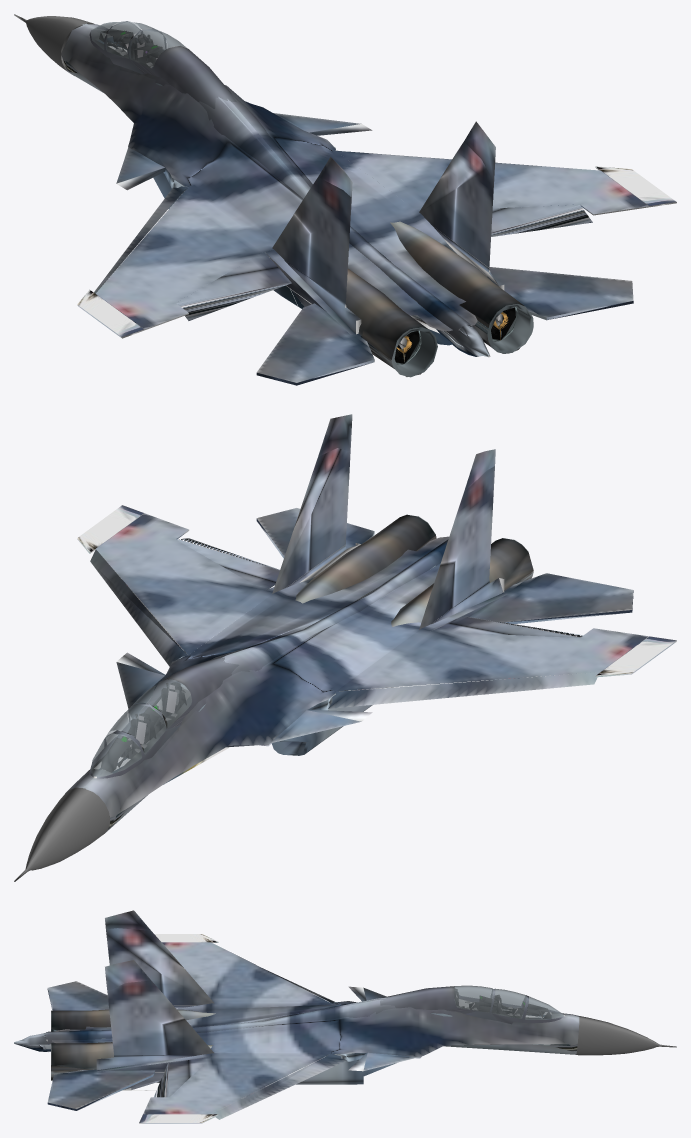
3 views of the same model, one above another, from view 1: azimuth 30°, elevation 25°; view 2: azimuth 150°, elevation 25°; view 3: azimuth 270°, elevation 25° (orthographic). The views are drawn at different scales.
Visible parts, largest first — view 1: body|Su30_MKI_R, body|Su30_MKI_L, body|Facing_R_text, body|glass, body|frontal_cone, body|Darker_paint.003, body|darkness; view 2: body|Su30_MKI_R, body|Su30_MKI_L, body|Facing_R_text, body|glass, body|frontal_cone, body|Darker_paint.003; view 3: body|Su30_MKI_R, body|Su30_MKI_L, body|Facing_R_text, body|glass, body|frontal_cone, body|Darker_paint.003.
Boxes of the visible parts, <box> form: body|Su30_MKI_R: <box>61,21,676,382</box>; body|Su30_MKI_L: <box>111,121,676,385</box>; body|Facing_R_text: <box>65,61,546,377</box>; body|glass: <box>90,21,187,68</box>; body|frontal_cone: <box>14,14,94,75</box>; body|Darker_paint.003: <box>99,29,162,65</box>; body|darkness: <box>394,307,515,363</box>; body|Su30_MKI_R: <box>65,505,676,832</box>; body|Su30_MKI_L: <box>90,414,676,784</box>; body|Facing_R_text: <box>116,514,533,817</box>; body|glass: <box>90,679,191,776</box>; body|frontal_cone: <box>14,787,110,881</box>; body|Darker_paint.003: <box>100,682,186,772</box>; body|Su30_MKI_R: <box>14,934,579,1123</box>; body|Su30_MKI_L: <box>47,910,327,1123</box>; body|Facing_R_text: <box>51,1009,570,1076</box>; body|glass: <box>454,985,563,1019</box>; body|frontal_cone: <box>576,1016,676,1055</box>; body|Darker_paint.003: <box>455,989,550,1018</box>.
Size of the model in its own units: 14.81 by 4.79 by 21.95.
21 materials, 5 textured.
